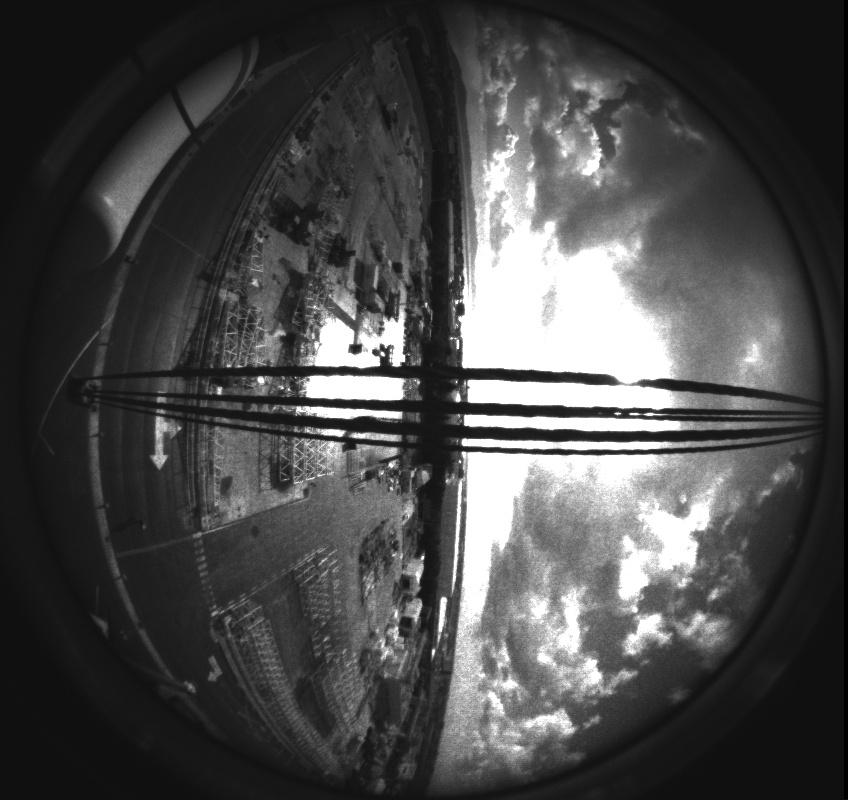rope: (2, 349, 846, 470)
